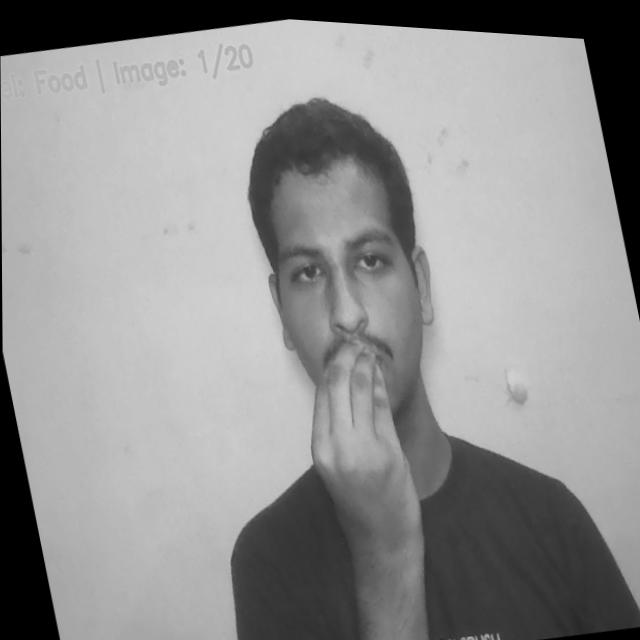Food: (284, 320, 443, 608)
